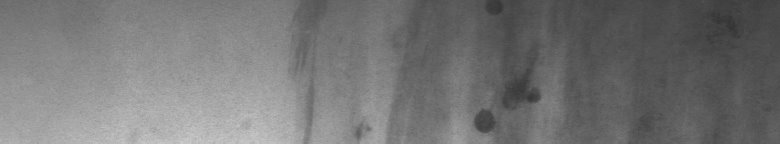fi: (468, 4, 547, 136)
